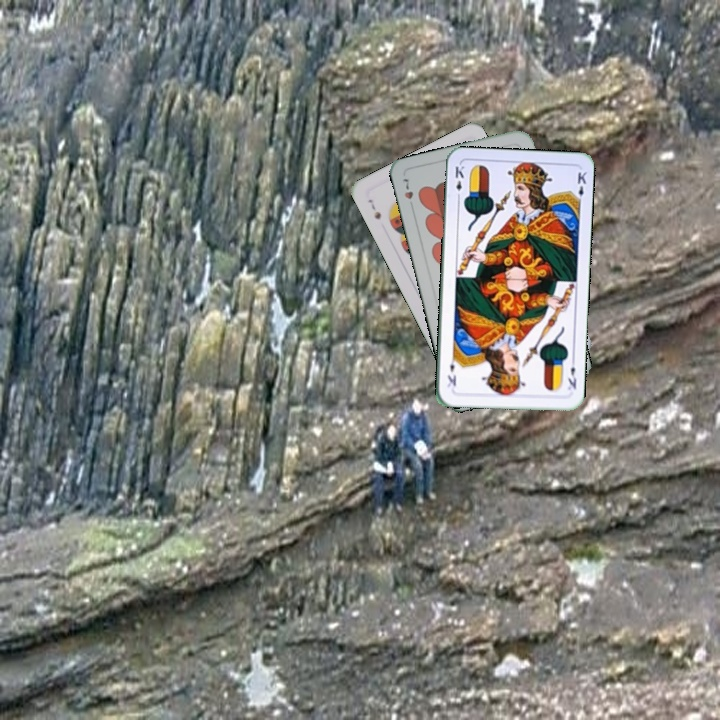EK: (451, 162, 468, 202), (564, 355, 579, 392)
H7: (398, 174, 416, 213)
S7: (364, 195, 383, 222)
